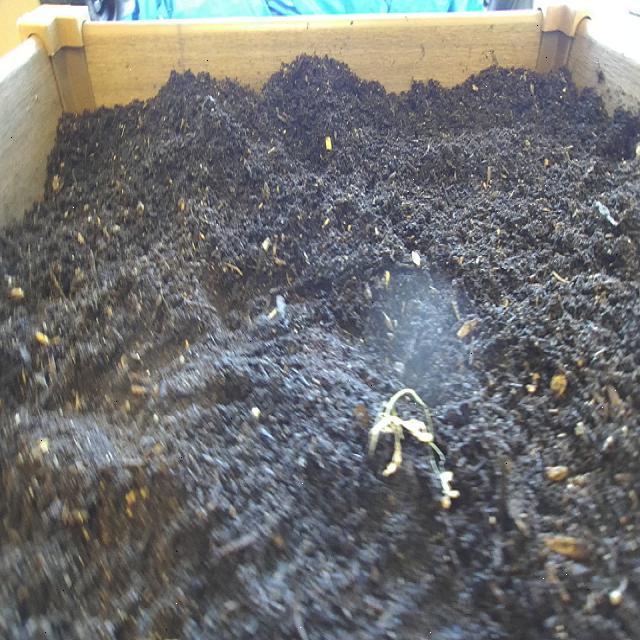Unhealthy: (360, 364, 464, 533)
